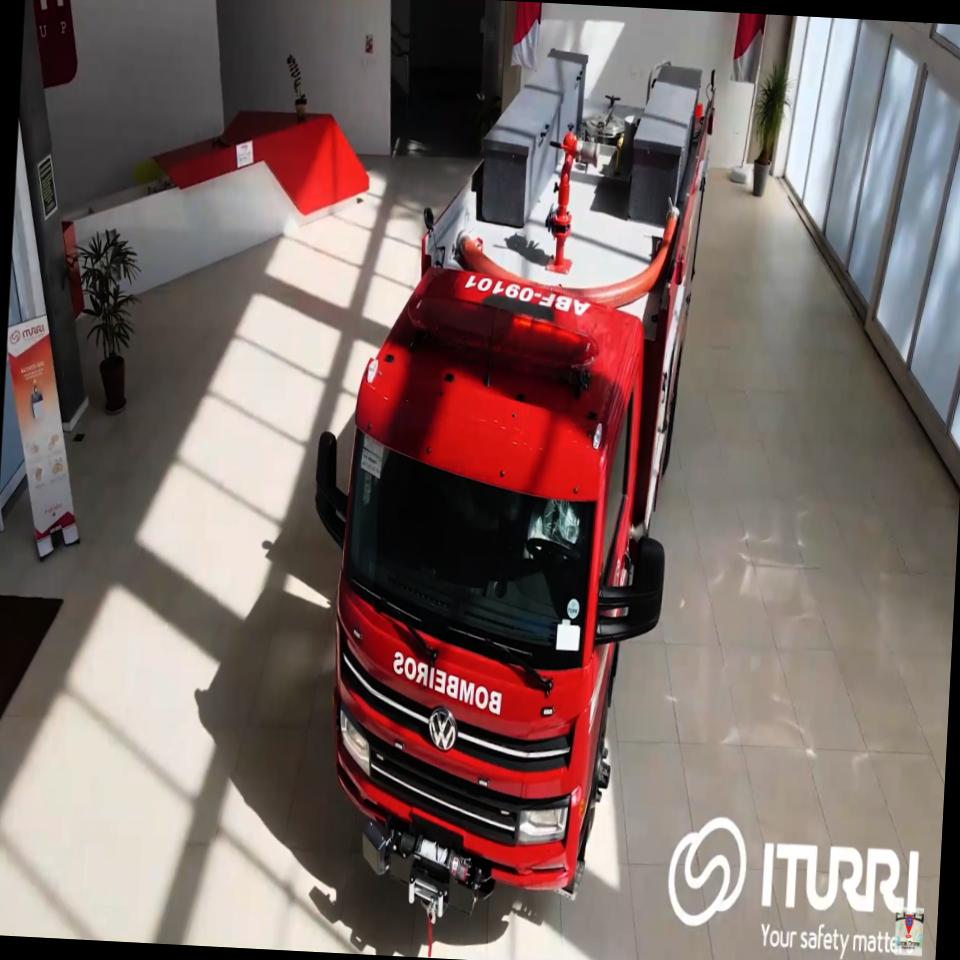viatura: (292, 30, 723, 930)
